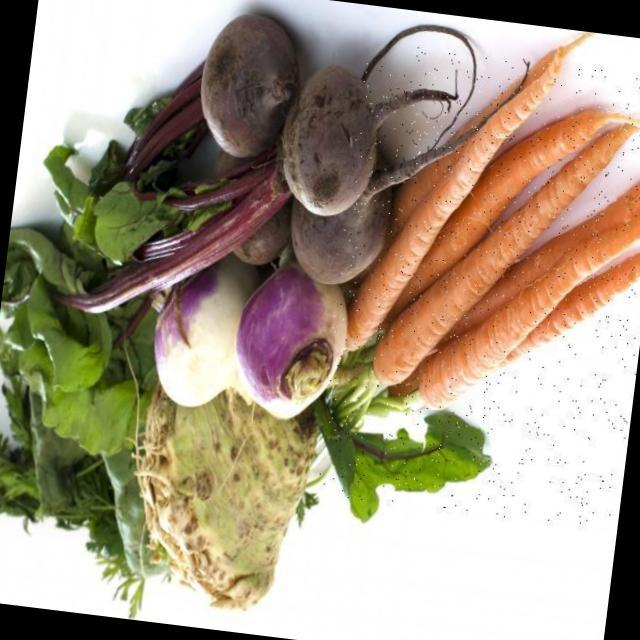Zanahoria: (310, 61, 640, 528), (368, 45, 640, 446)
